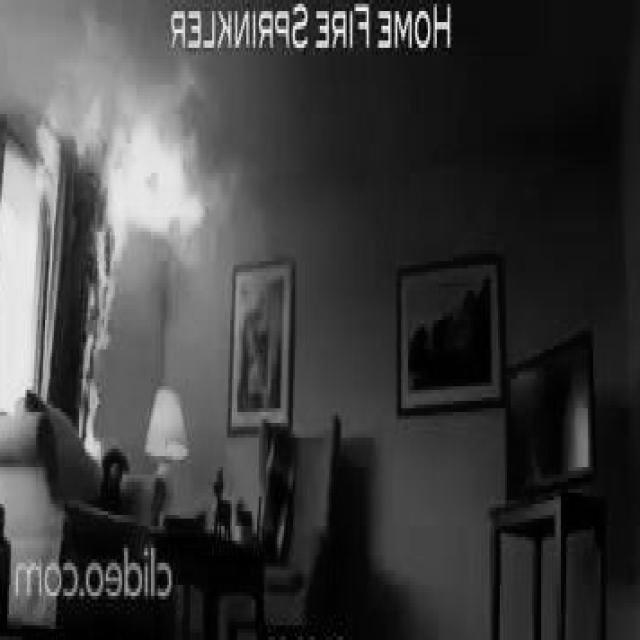smoke: (94, 88, 212, 250), (79, 251, 121, 448), (34, 107, 59, 220)
